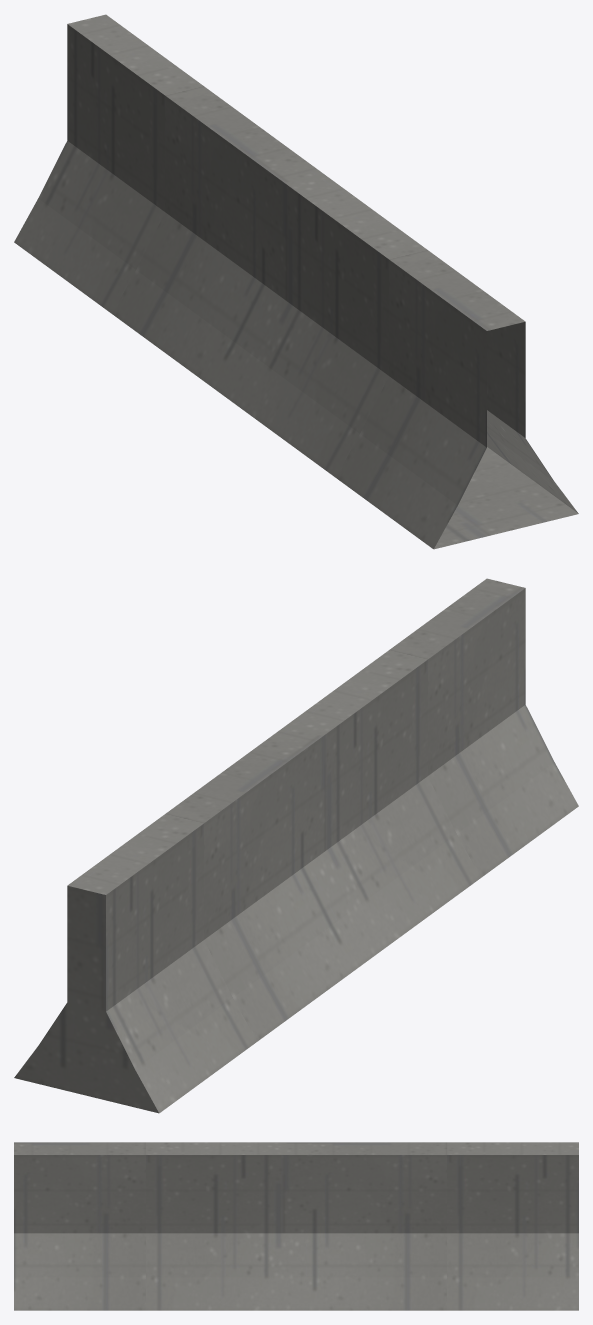
The model's file is jersey.glb.
3 renders of one model, top to bottom at view 1: azimuth 30°, elevation 25°; view 2: azimuth 150°, elevation 25°; view 3: azimuth 270°, elevation 25°, orthographic. The views are drawn at different scales.
Visible parts, largest first — view 1: jersey; view 2: jersey; view 3: jersey.
Boxes of the visible parts, x1,y1,x2,y2 form: jersey: (14,14,578,549); jersey: (14,578,578,1113); jersey: (14,1142,578,1310).
Size of the model in its own units: 0.6 by 0.81 by 3.
Materials: 1 (1 with a texture image).
